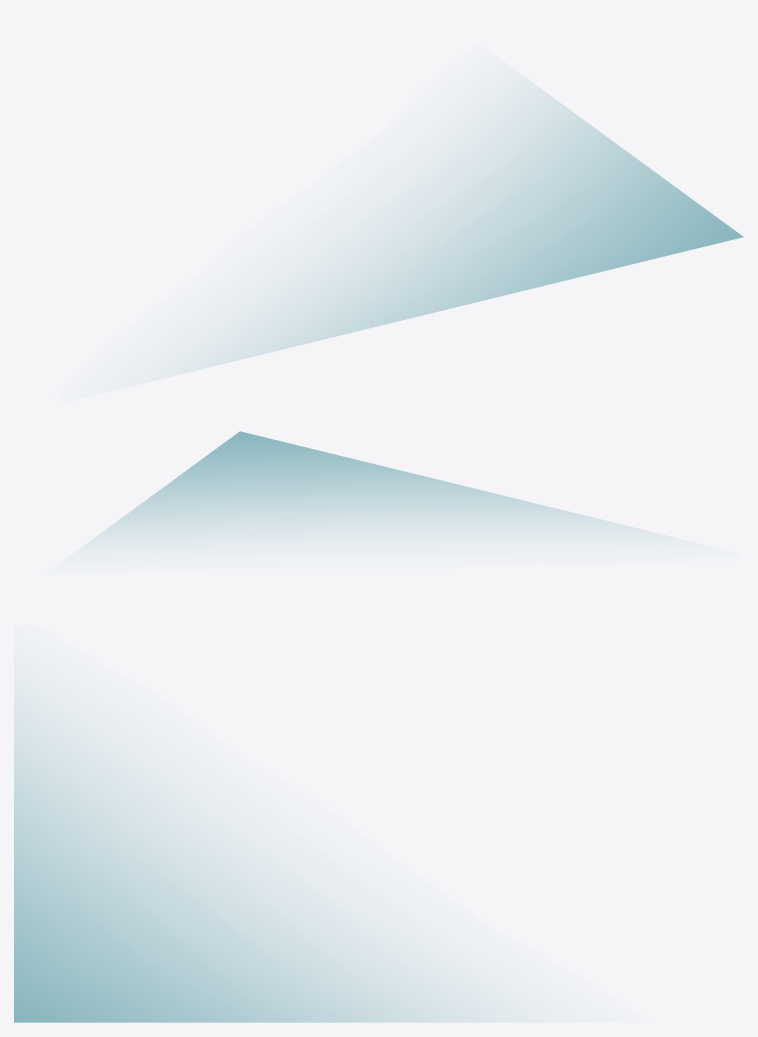
The picture shows the model from 3 angles, top to bottom: view 1: azimuth 30°, elevation 25°; view 2: azimuth 150°, elevation 25°; view 3: azimuth 270°, elevation 25°; orthographic projection. The views are drawn at different scales.
Visible parts, largest first — view 1: city; view 2: city; view 3: city.
Boxes of the visible parts, <box> form: city: <box>174,83,743,375</box>; city: <box>85,431,660,545</box>; city: <box>14,688,518,1022</box>.
Size of the model in its own units: 500 by 0 by 388.
